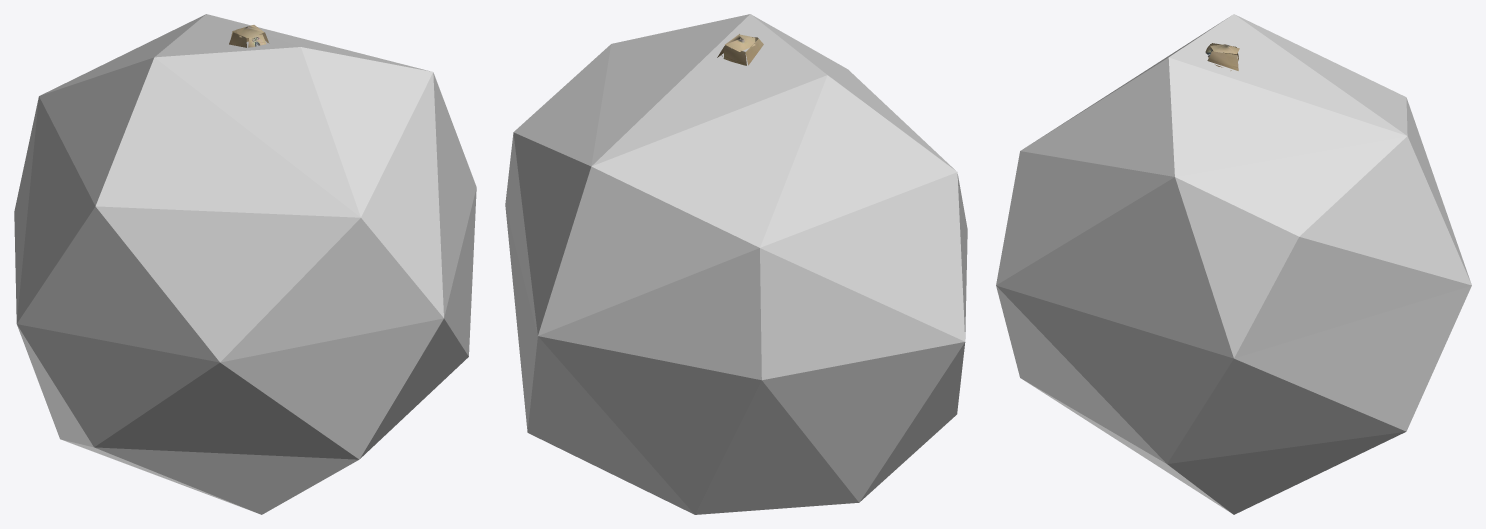
The model's file is fan12.glb.
3 renders of one model, left to right at view 1: azimuth 30°, elevation 25°; view 2: azimuth 150°, elevation 25°; view 3: azimuth 270°, elevation 25°, orthographic. The views are drawn at different scales.
Parts seen in each view (by area): view 1: material_proxy; view 2: material_proxy; view 3: material_proxy.
Part boxes in pixels (x1,y1,x2,y2): material_proxy: (14, 14, 476, 514); material_proxy: (505, 14, 967, 514); material_proxy: (996, 14, 1471, 514).
Size of the model in its own units: 2.09 by 2 by 1.99.
1 material, 1 textured.
